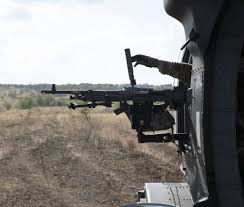gun: (38, 46, 179, 134)
